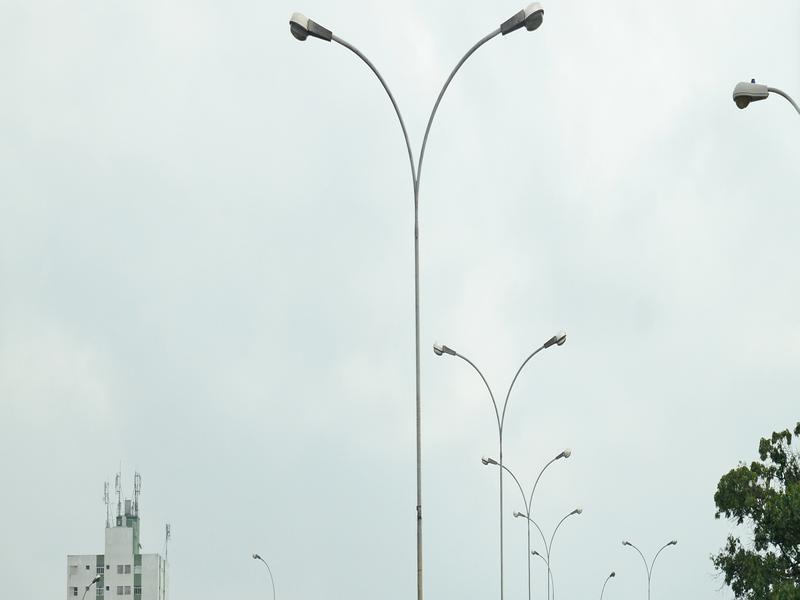IP: (437, 1, 564, 100), (272, 7, 397, 100), (504, 333, 577, 397), (711, 63, 798, 115), (425, 338, 492, 396), (472, 447, 525, 502), (529, 448, 577, 502)
